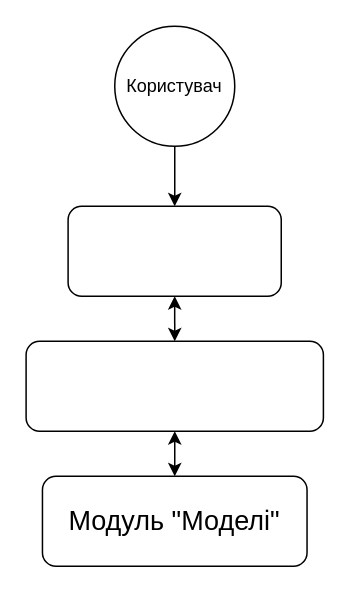
Some shapes in this 351 by 593 pixel diagram are drawn without their labels. Each missing label, with the centre of its shape:
Модуль "Вид-Моделі": point (174, 385)
Модуль "Види": point (174, 250)
